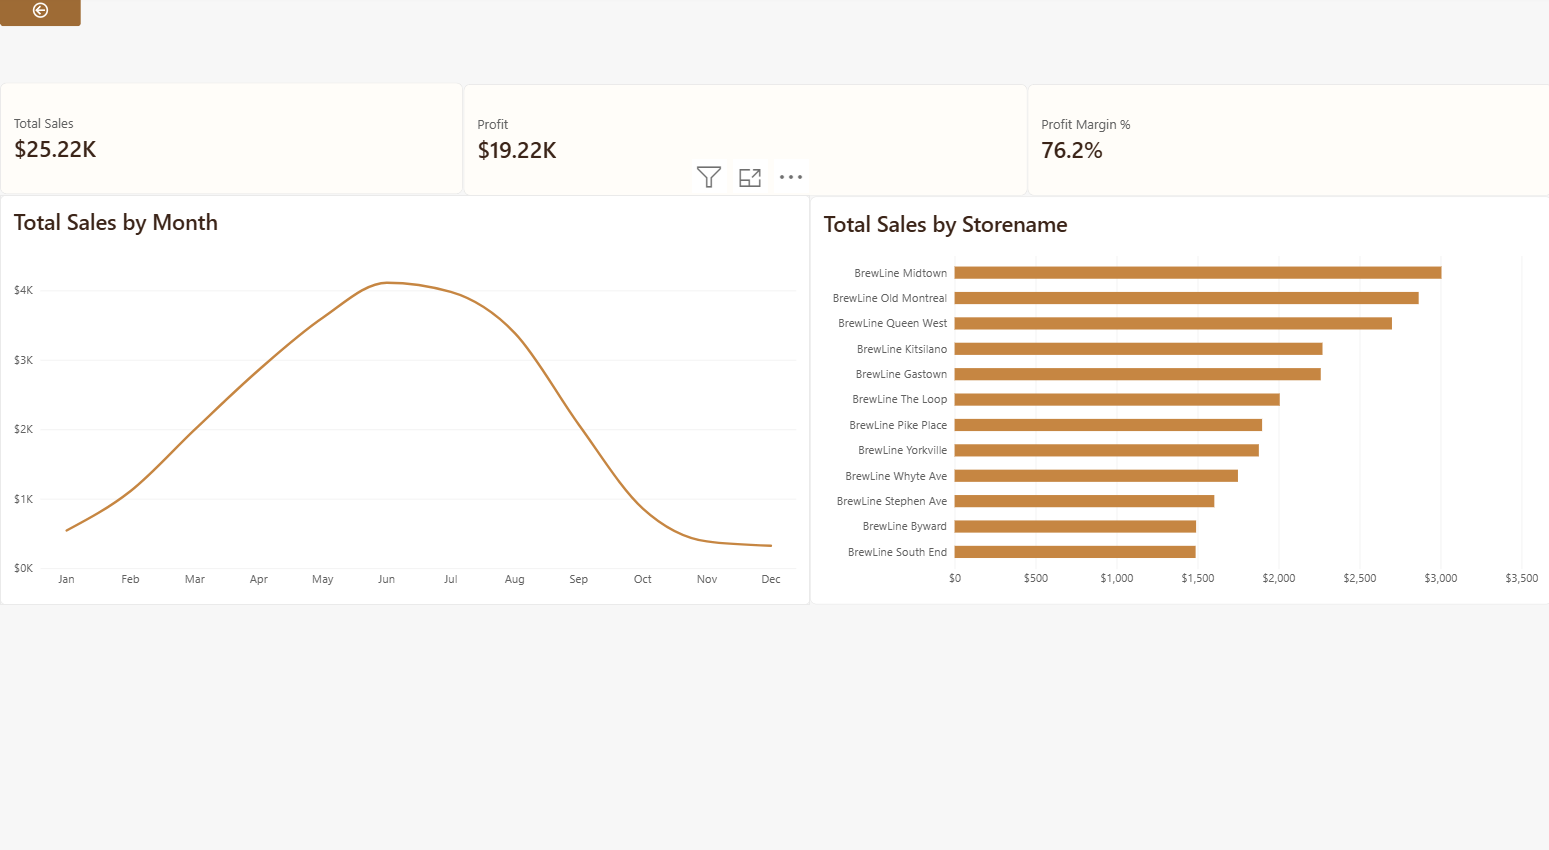

Layout of this report page (visuals, bound fields, positions):
{"tool":"powerbi","page":{"name":"Product Details","canvas":[1920,1080],"ordinal":4},"visuals":[{"type":"actionButton","box":[0,0,100,40],"z":0},{"type":"cardVisual","fields":{"Data":["_Measures.Total Sales"]},"box":[0,109,572.4,138.5],"z":1000},{"type":"cardVisual","fields":{"Data":["_Measures.Profit"]},"box":[572.4,111.3,697.3,138.5],"z":2000},{"type":"cardVisual","fields":{"Data":["_Measures.Profit Margin %"]},"box":[1269.7,111.3,649.6,138.5],"z":3000},{"type":"lineChart","title":"Total Sales by Month","fields":{"Category":["DimDate.Month"],"Y":["_Measures.Total Sales"]},"box":[0,247.6,1001.6,506.5],"z":4000},{"type":"clusteredBarChart","title":"Total Sales by Storename","fields":{"Category":["DimStore.StoreName"],"Y":["_Measures.Total Sales"]},"box":[1001.6,249.8,917.6,504.2],"z":5000}]}

Visuals, with their boxes in screenshot pixels (x1, y1, x2, y2), scaled from the page's 1920x1080 canvas onto the 1549x850 screenshot:
actionButton: [left=0, top=0, right=81, bottom=31]
cardVisual - _Measures.Total Sales: [left=0, top=86, right=462, bottom=195]
cardVisual - _Measures.Profit: [left=462, top=88, right=1024, bottom=197]
cardVisual - _Measures.Profit Margin %: [left=1024, top=88, right=1548, bottom=197]
"Total Sales by Month" lineChart: [left=0, top=195, right=808, bottom=594]
"Total Sales by Storename" clusteredBarChart: [left=808, top=197, right=1548, bottom=593]
